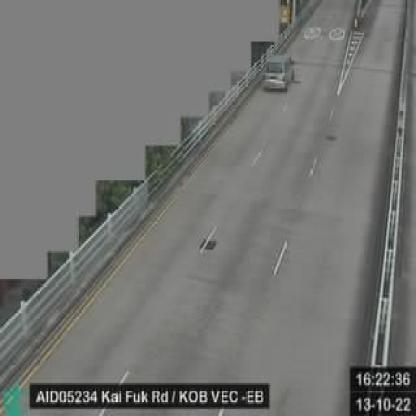Car: (262, 52, 294, 94)
